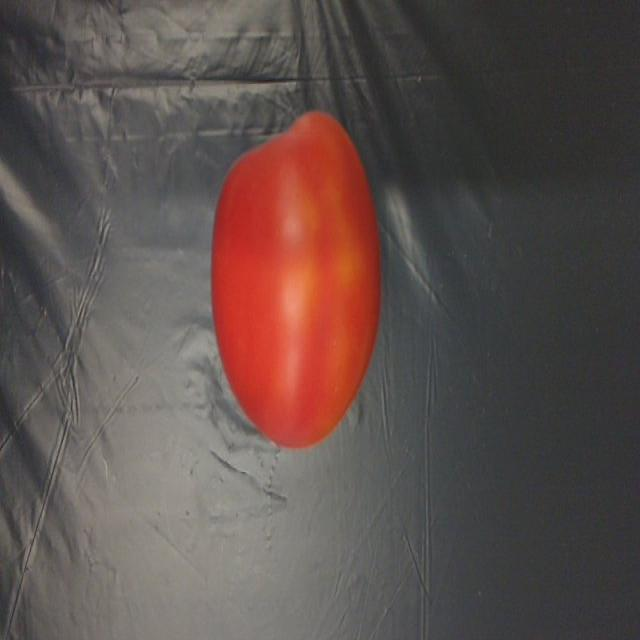kirmizi: (212, 109, 384, 459)
